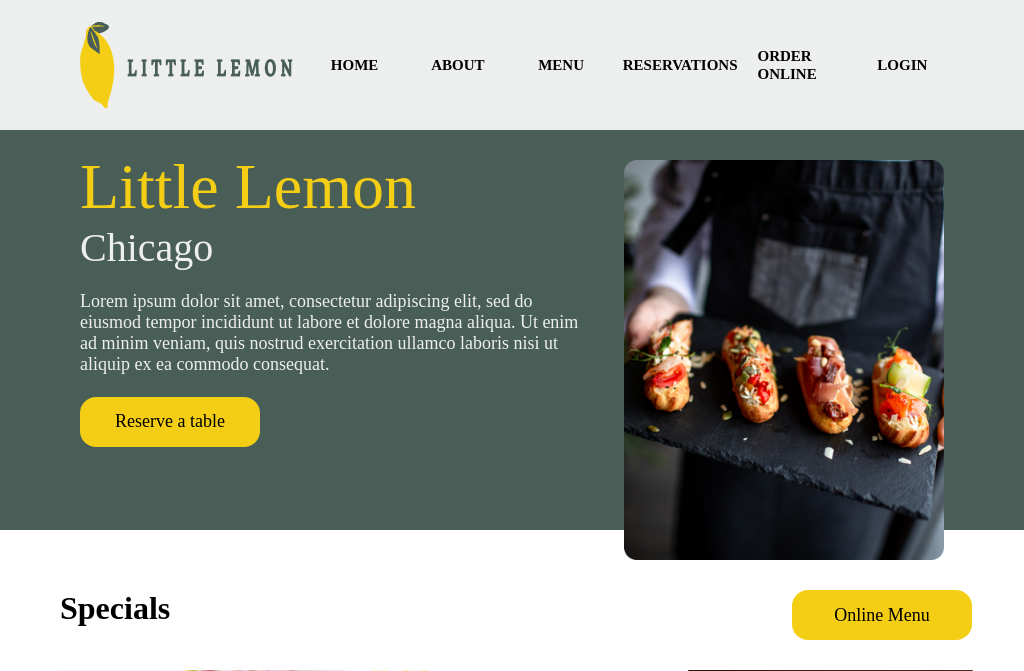
it: Submit button is disabled when inputs
The image size is (1024, 671).
What coordinates should you click on to do the following:
click the button with test id "reserve-btn"
I would click on:
 (170, 422)
Its box is [80,397,260,447].
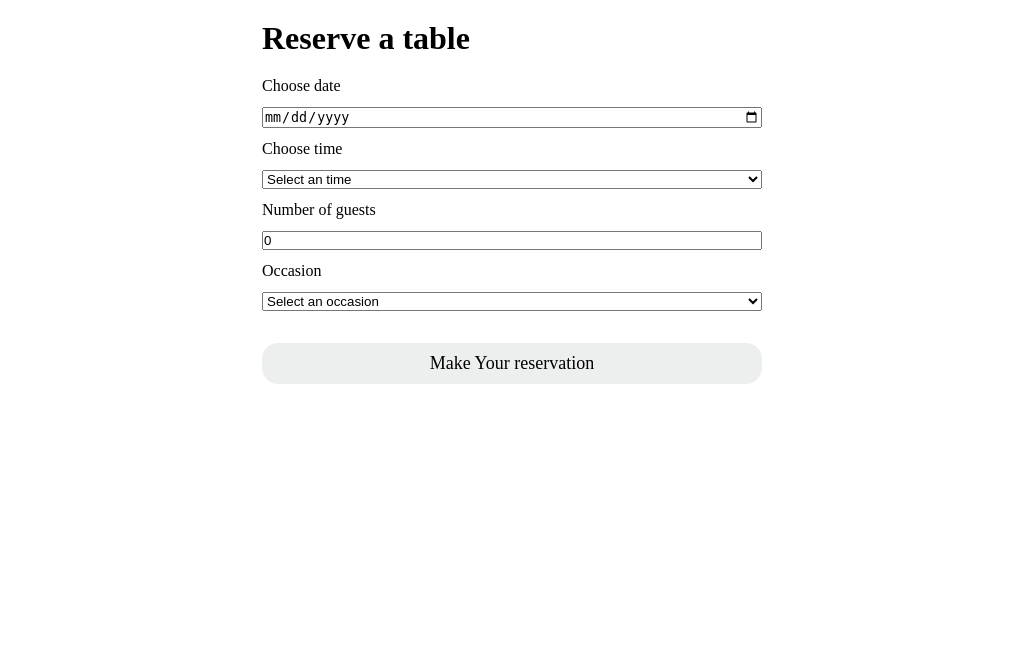
Expected: the button with test id "submit-btn" is disabled, [262,343,762,384]
